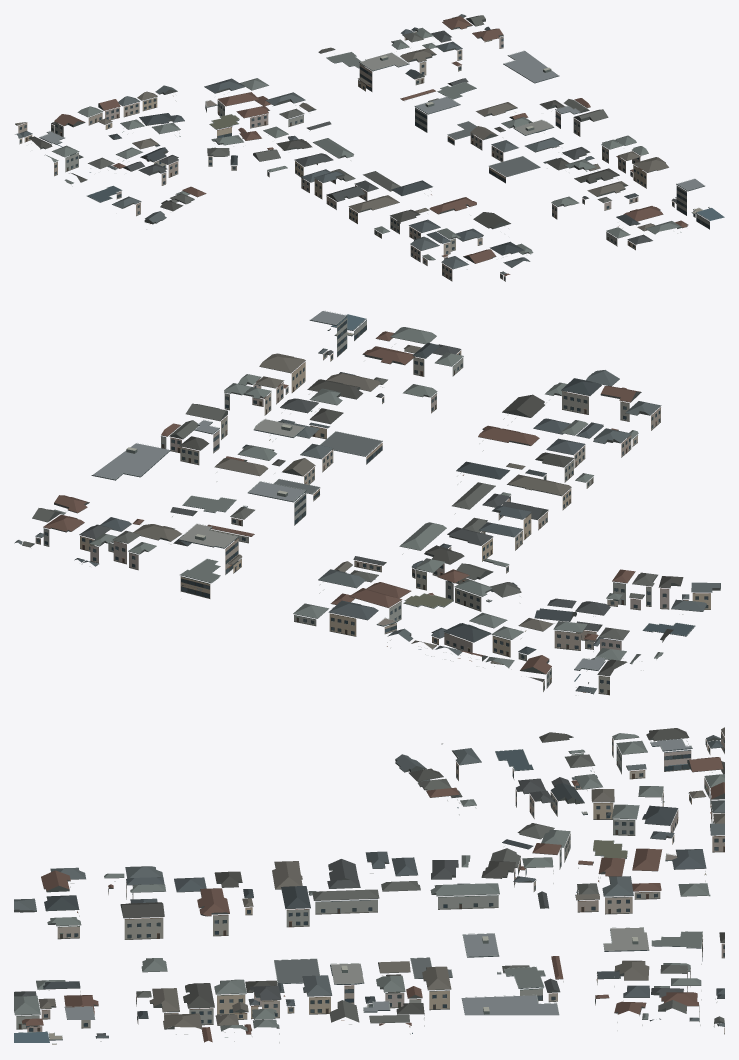
The picture shows the model from 3 angles, top to bottom: view 1: azimuth 30°, elevation 25°; view 2: azimuth 150°, elevation 25°; view 3: azimuth 270°, elevation 25°; orthographic projection. The views are drawn at different scales.
Parts seen in each view (by area): view 1: r7-c7; view 2: r7-c7; view 3: r7-c7.
Part boxes in pixels (left/top/right/bottom): r7-c7: left=15, top=14, right=724, bottom=281; r7-c7: left=14, top=310, right=720, bottom=695; r7-c7: left=14, top=727, right=724, bottom=1044.
Bounding box in the file's own units: 250 × 22.77 × 250.
